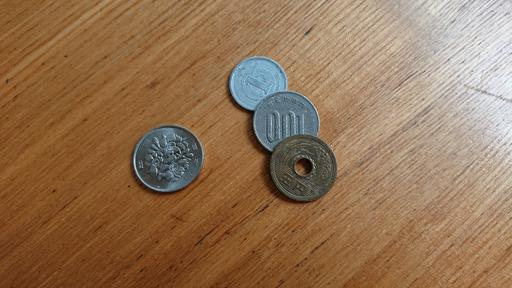100yen: (133, 126, 203, 192), (253, 93, 319, 155)
1yen: (227, 56, 287, 112)
5yen: (269, 135, 337, 202)
